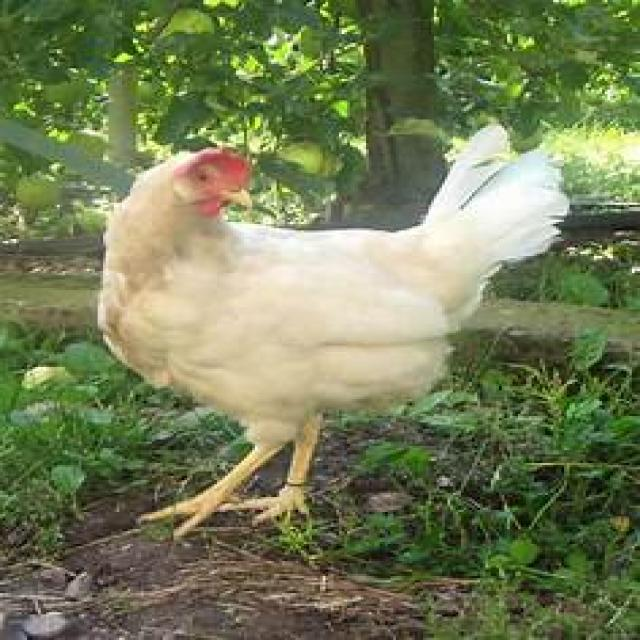hen: (95, 126, 572, 542)
